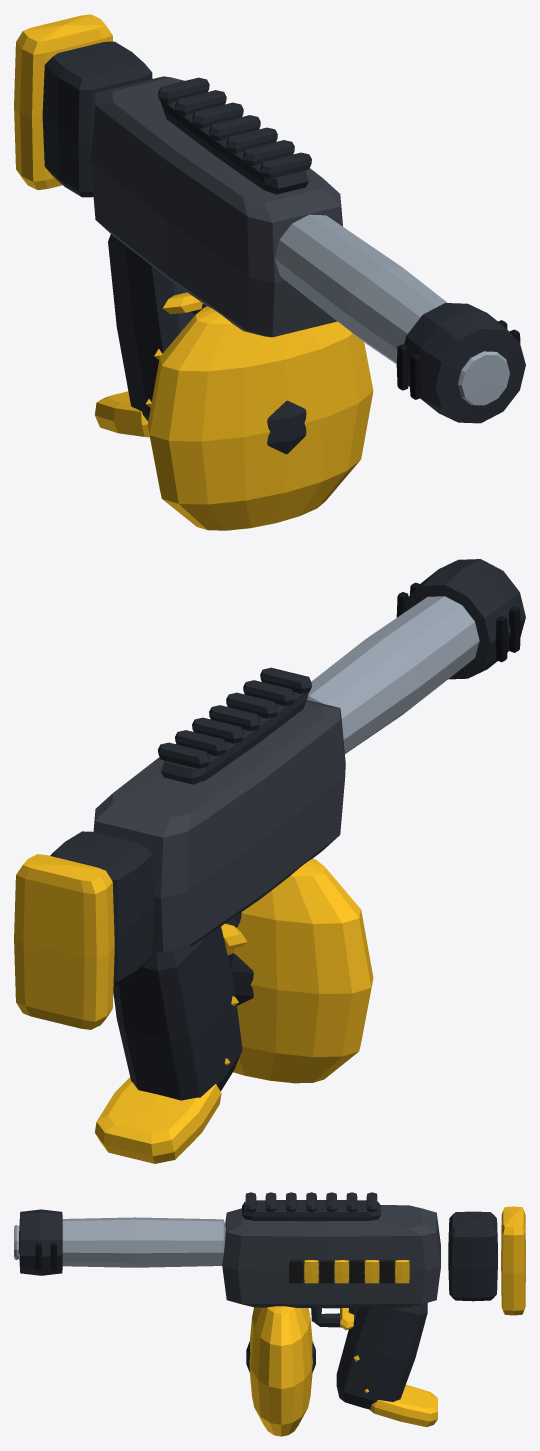
Rendered from g-shotgun-3.glb.
The picture shows the model from 3 angles, top to bottom: view 1: azimuth 30°, elevation 25°; view 2: azimuth 150°, elevation 25°; view 3: azimuth 270°, elevation 25°; orthographic projection. The views are drawn at different scales.
Parts seen in each view (by area): view 1: gun; view 2: gun; view 3: gun.
Boxes of the visible parts, box(x1,y1,x2,y2) form: gun: box(14, 14, 525, 530); gun: box(14, 559, 525, 1163); gun: box(14, 1192, 525, 1436).
Bounding box in the file's own units: 0.3 × 0.496 × 1.01.
